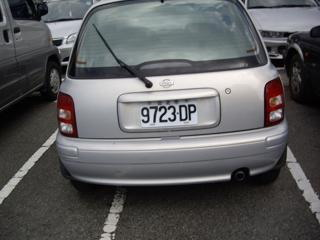plate: (138, 101, 198, 129)
